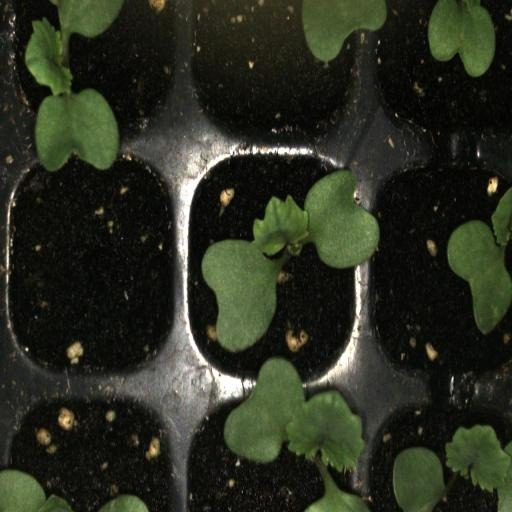Folha: (202, 187, 357, 327), (229, 353, 363, 474), (395, 421, 512, 512), (444, 186, 512, 333), (296, 0, 391, 63), (424, 0, 496, 78), (391, 443, 448, 512), (0, 466, 77, 512), (303, 475, 370, 511)
Germinacao: (180, 144, 365, 390), (357, 145, 512, 391), (2, 0, 186, 144), (185, 385, 366, 512), (362, 388, 512, 512), (422, 0, 498, 81), (0, 465, 80, 512)
